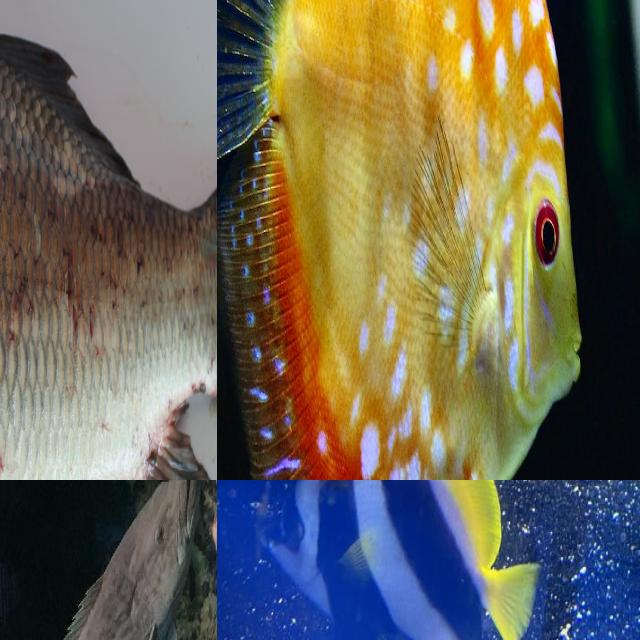fish: (217, 0, 640, 480), (0, 0, 217, 480), (264, 480, 538, 640)
